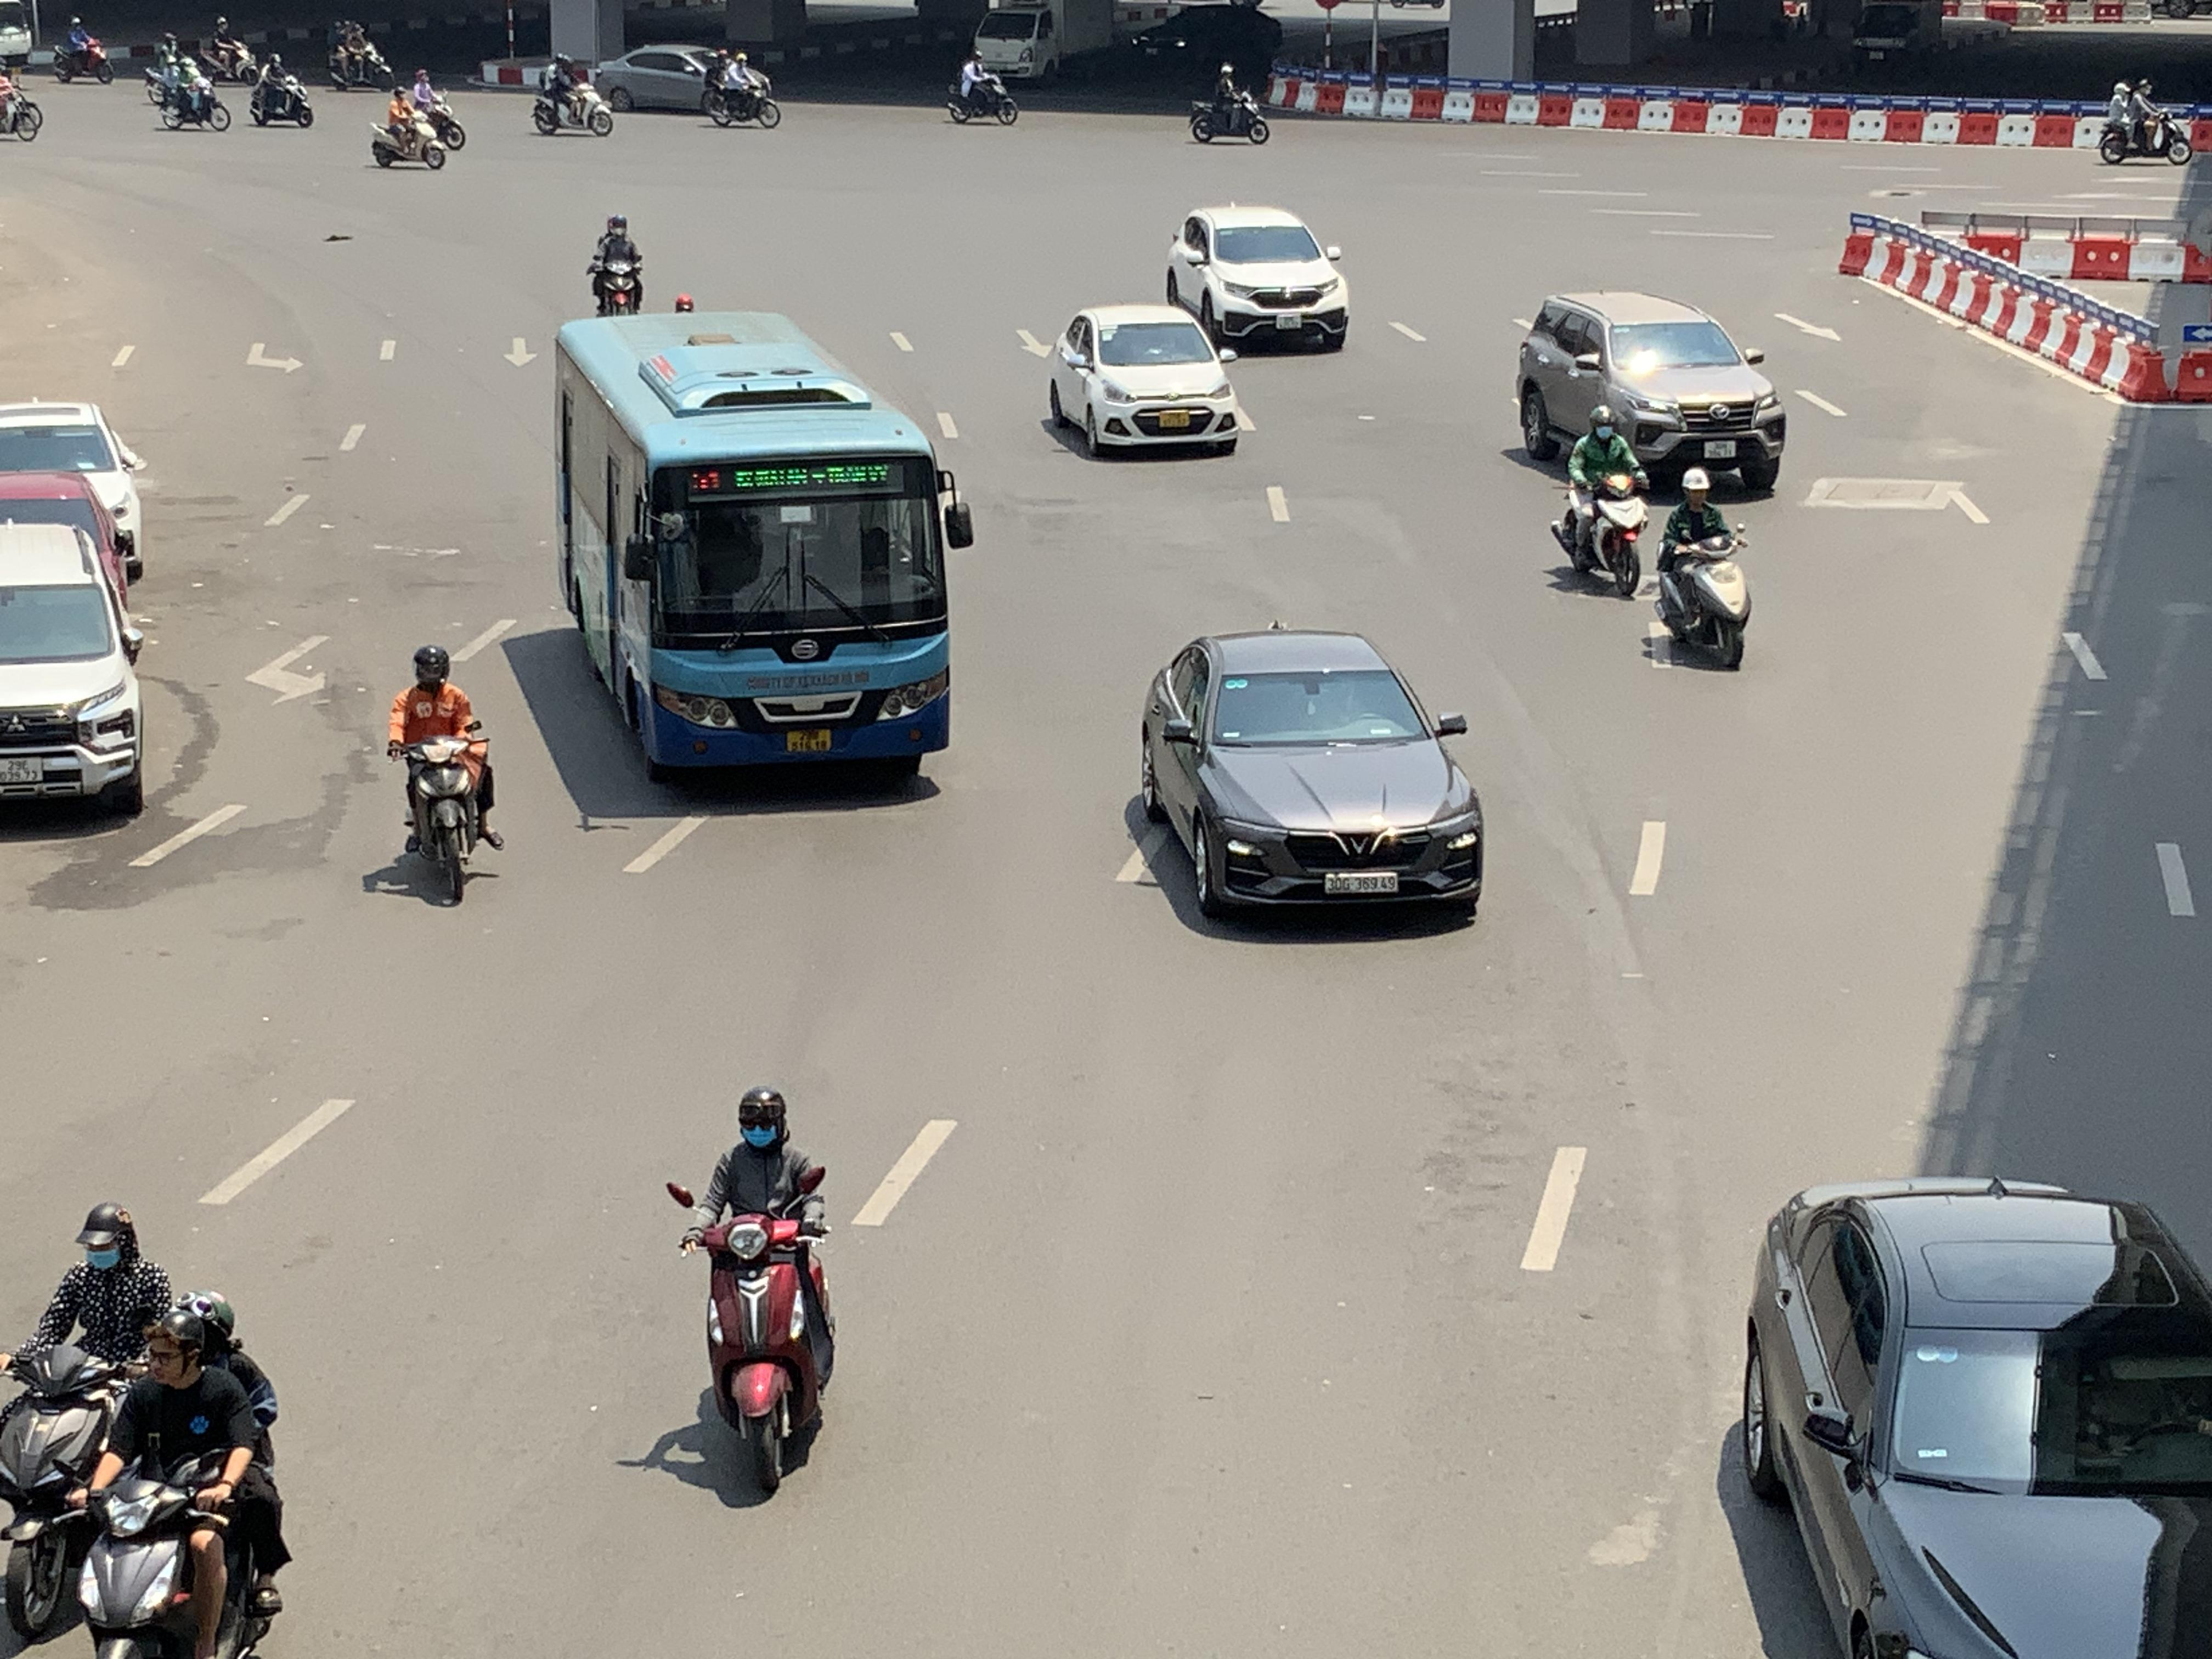BSD: (1324, 871, 1399, 894)
BSV: (0, 756, 44, 782), (786, 728, 831, 753), (1703, 439, 1735, 458)
bus: (550, 307, 974, 781)
car: (1723, 1175, 2212, 1657), (1134, 629, 1484, 927), (1514, 289, 1787, 497), (0, 512, 152, 824), (1043, 303, 1240, 460), (1163, 206, 1350, 354), (0, 401, 148, 587), (592, 44, 744, 117)
motorbike: (0, 1199, 293, 1659), (671, 1084, 840, 1504), (388, 643, 500, 906), (1649, 469, 1752, 671), (1554, 406, 1649, 601), (2097, 77, 2195, 166), (531, 52, 613, 136), (369, 80, 446, 169), (1188, 63, 1270, 145), (152, 47, 232, 131), (704, 44, 780, 129), (587, 213, 644, 317), (944, 49, 1019, 124), (247, 49, 314, 127), (404, 66, 465, 150), (326, 19, 394, 91), (52, 12, 113, 84), (199, 17, 258, 84), (0, 52, 42, 141)
truck: (968, 0, 1115, 84)
